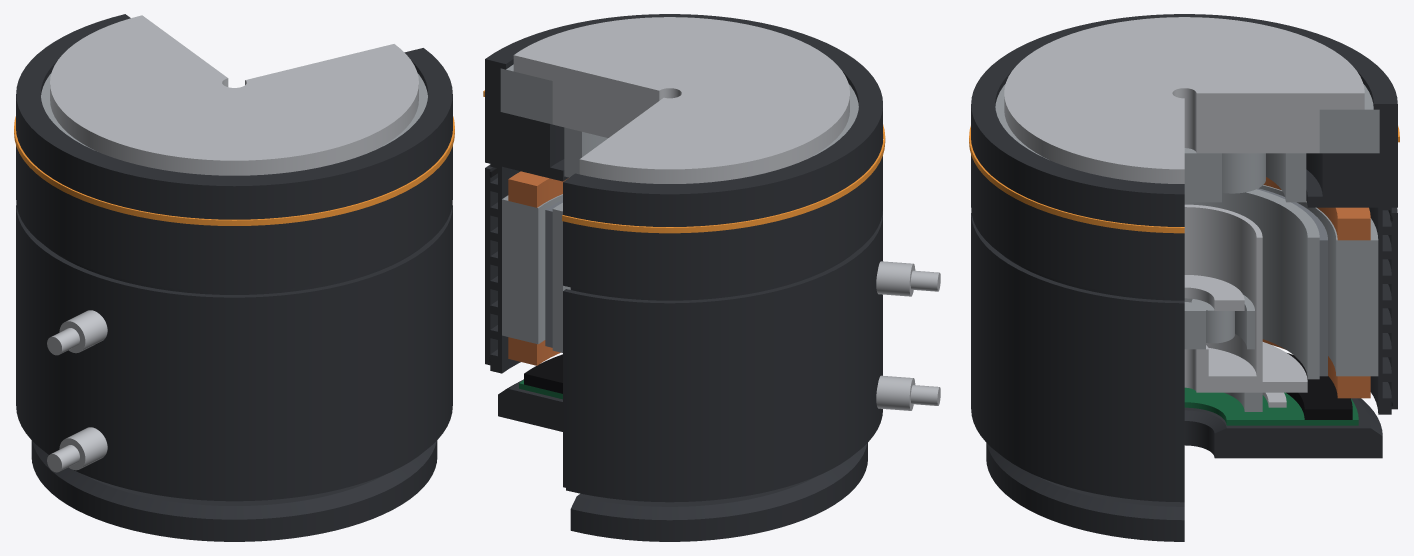
File: ka130k_cutaway.glb
3 views of the same model, side by side, from view 1: azimuth 30°, elevation 25°; view 2: azimuth 150°, elevation 25°; view 3: azimuth 270°, elevation 25° (orthographic). The views are drawn at different scales.
Visible parts, largest first — view 1: jacket__act_coolant_jacket_sleeve, housing__act_front_housing, output__alu_output_flange_PCD105, housing__act_rear_cap_finned, housing__accent_status_ring, housing__act_motor_housing_finned, jacket__alu_coolant_port_30, jacket__alu_coolant_port_72, bearing__steel_crossed_roller_bearing_THK_RB9016; view 2: jacket__act_coolant_jacket_sleeve, housing__act_front_housing, output__alu_output_flange_PCD105, housing__act_rear_cap_finned, stator__steel_stator_laminations_0.2mm_NO20, housing__act_motor_housing_finned, stage2__alu_s2_carrier_output, bearing__steel_crossed_roller_bearing_THK_RB9016, housing__accent_status_ring, jacket__alu_coolant_port_72, jacket__alu_coolant_port_30, rotor__steel_rotor_back_iron (+5 smaller); view 3: jacket__act_coolant_jacket_sleeve, output__alu_output_flange_PCD105, housing__act_front_housing, housing__act_rear_cap_finned, rotor__alu_rotor_hub, rotor__steel_rotor_back_iron, stator__steel_stator_laminations_0.2mm_NO20, stage2__alu_s2_carrier_output, housing__act_motor_housing_finned, bearing__steel_crossed_roller_bearing_THK_RB9016, pcb__pcb_drive_pcb_annular, stage2__steel_s2_sun_z18 (+12 smaller).
Part boxes in pixels (left/top/right/bottom): jacket__act_coolant_jacket_sleeve: left=16, top=204, right=452, bottom=498; housing__act_front_housing: left=16, top=14, right=452, bottom=291; output__alu_output_flange_PCD105: left=50, top=15, right=418, bottom=175; housing__act_rear_cap_finned: left=31, top=440, right=437, bottom=541; housing__accent_status_ring: left=14, top=116, right=454, bottom=225; housing__act_motor_housing_finned: left=46, top=246, right=422, bottom=501; jacket__alu_coolant_port_30: left=47, top=427, right=107, bottom=472; jacket__alu_coolant_port_72: left=47, top=310, right=107, bottom=355; bearing__steel_crossed_roller_bearing_THK_RB9016: left=41, top=73, right=427, bottom=150; jacket__act_coolant_jacket_sleeve: left=485, top=165, right=882, bottom=499; housing__act_front_housing: left=485, top=14, right=882, bottom=297; output__alu_output_flange_PCD105: left=513, top=17, right=849, bottom=183; housing__act_rear_cap_finned: left=498, top=379, right=867, bottom=541; stator__steel_stator_laminations_0.2mm_NO20: left=502, top=194, right=562, bottom=344; housing__act_motor_housing_finned: left=490, top=164, right=853, bottom=502; stage2__alu_s2_carrier_output: left=552, top=81, right=652, bottom=137; bearing__steel_crossed_roller_bearing_THK_RB9016: left=500, top=64, right=858, bottom=159; housing__accent_status_ring: left=483, top=90, right=885, bottom=233; jacket__alu_coolant_port_72: left=876, top=261, right=940, bottom=296; jacket__alu_coolant_port_30: left=876, top=375, right=940, bottom=410; rotor__steel_rotor_back_iron: left=552, top=203, right=570, bottom=352; jacket__act_coolant_jacket_sleeve: left=971, top=207, right=1397, bottom=499; output__alu_output_flange_PCD105: left=1004, top=17, right=1364, bottom=183; housing__act_front_housing: left=971, top=14, right=1397, bottom=297; housing__act_rear_cap_finned: left=986, top=398, right=1382, bottom=541; rotor__alu_rotor_hub: left=1184, top=204, right=1307, bottom=392; rotor__steel_rotor_back_iron: left=1184, top=189, right=1319, bottom=379; stator__steel_stator_laminations_0.2mm_NO20: left=1259, top=185, right=1378, bottom=376; stage2__alu_s2_carrier_output: left=1184, top=104, right=1319, bottom=153; housing__act_motor_housing_finned: left=1001, top=207, right=1391, bottom=502; bearing__steel_crossed_roller_bearing_THK_RB9016: left=995, top=84, right=1379, bottom=159; pcb__pcb_drive_pcb_annular: left=1184, top=387, right=1358, bottom=425; stage2__steel_s2_sun_z18: left=1184, top=148, right=1221, bottom=202.
Size of the model in its own units: 158 by 134 by 143.
